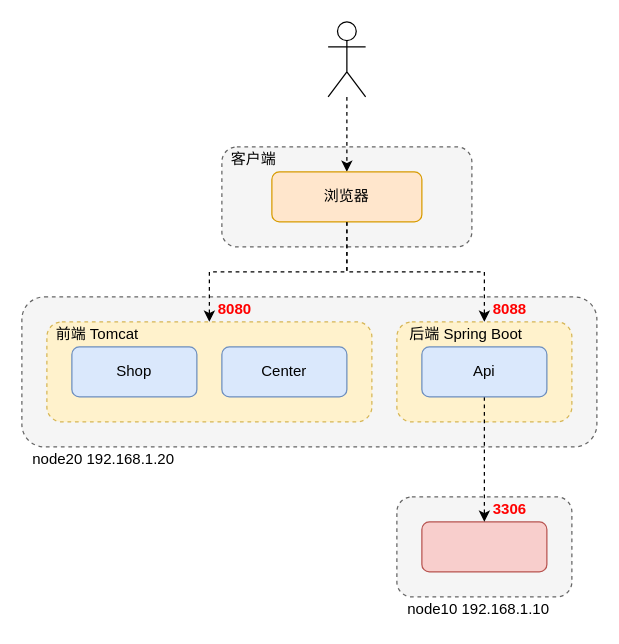
Some shapes in this 619 by 644 pixel diagram are drawn without their labels. Each missing label, with the centre of its shape:
"MariaDB" belongs at (x=484, y=546).
"用户访问" belongs at (x=346, y=59).
